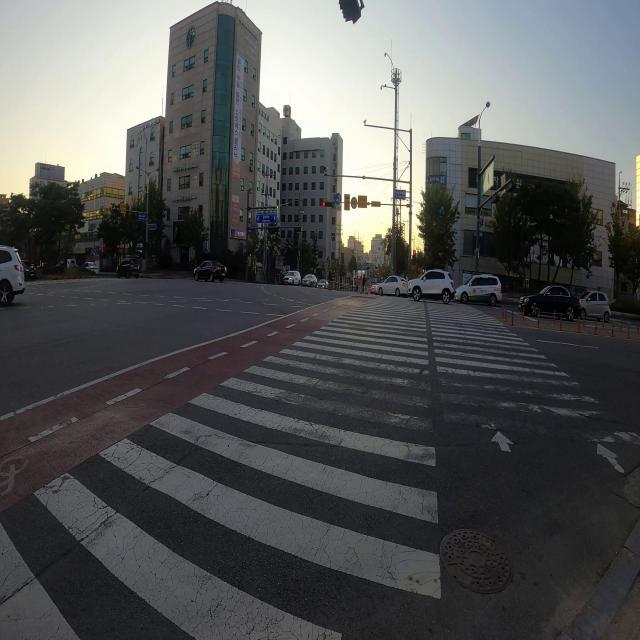crosswalk: (0, 295, 640, 640)
